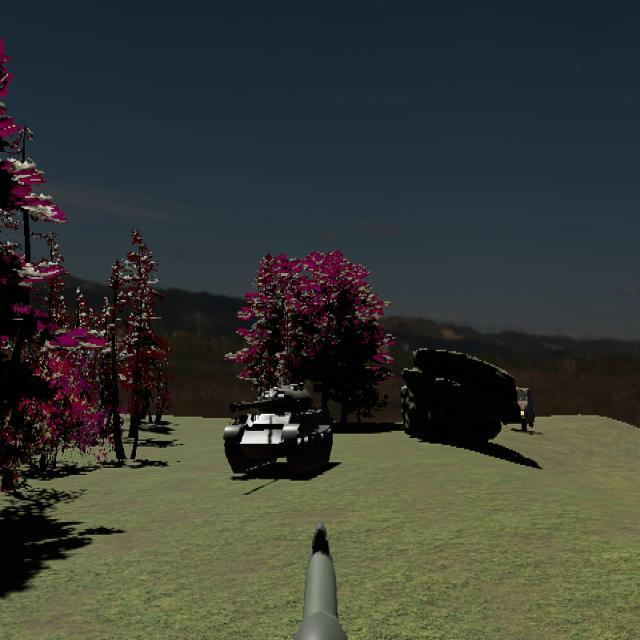Tank: (223, 380, 334, 478)
